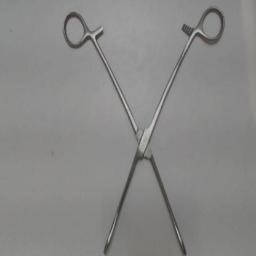Sponge Forceps: (60, 4, 228, 256)
